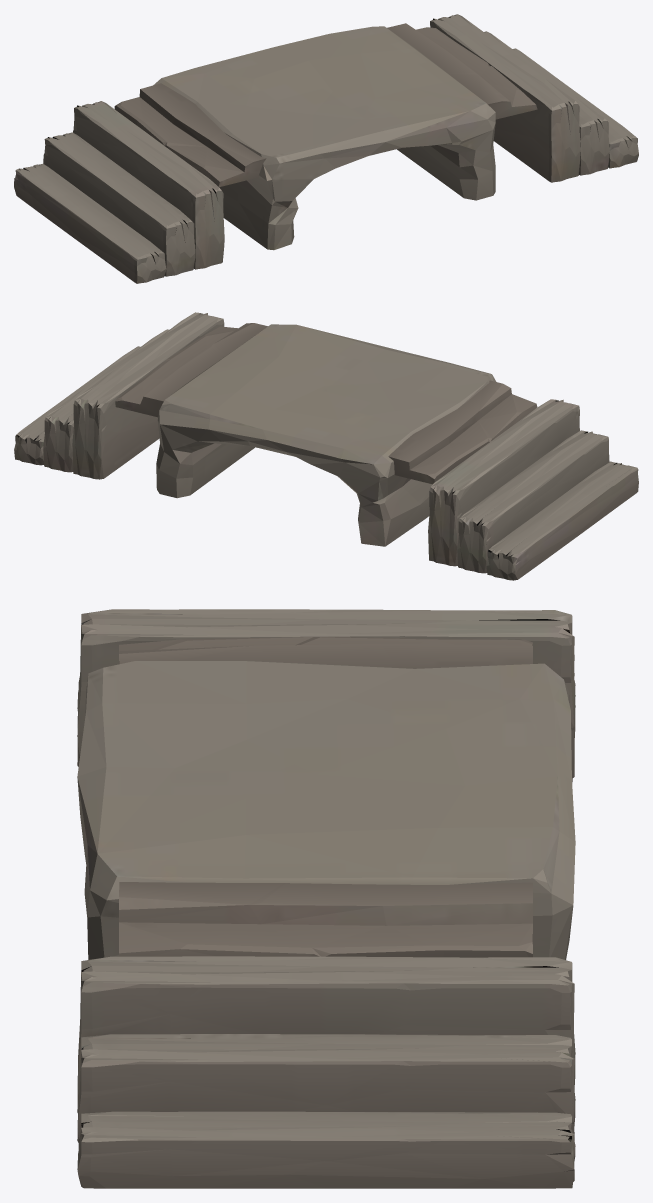
The model's file is stone_arch_bridge.glb.
The picture shows the model from 3 angles, top to bottom: view 1: azimuth 30°, elevation 25°; view 2: azimuth 150°, elevation 25°; view 3: azimuth 270°, elevation 25°; orthographic projection. The views are drawn at different scales.
Visible parts, largest first — view 1: stone_arch_bridge; view 2: stone_arch_bridge; view 3: stone_arch_bridge.
Part boxes in pixels (box(x1,y1,x2,y2)): stone_arch_bridge: box(14, 14, 638, 283); stone_arch_bridge: box(14, 312, 638, 580); stone_arch_bridge: box(77, 609, 575, 1188).
Bounding box in the file's own units: 5.16 × 0.87 × 2.22.
Materials: 1 (1 with a texture image).
